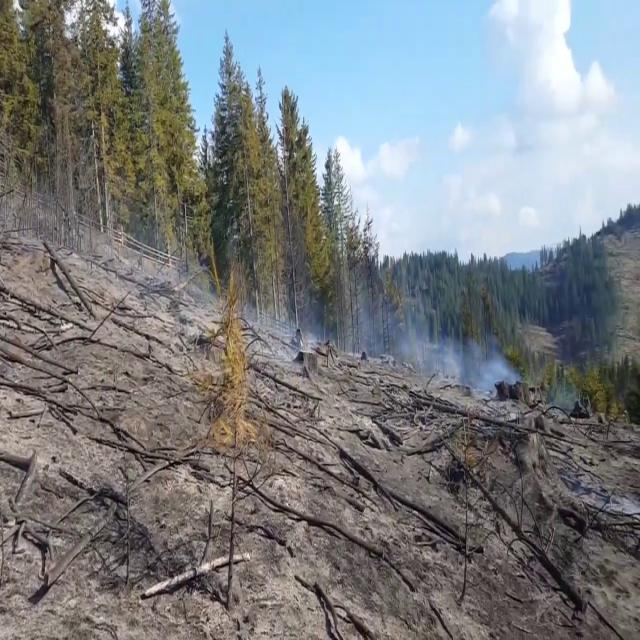Smoke: (381, 283, 519, 402)
